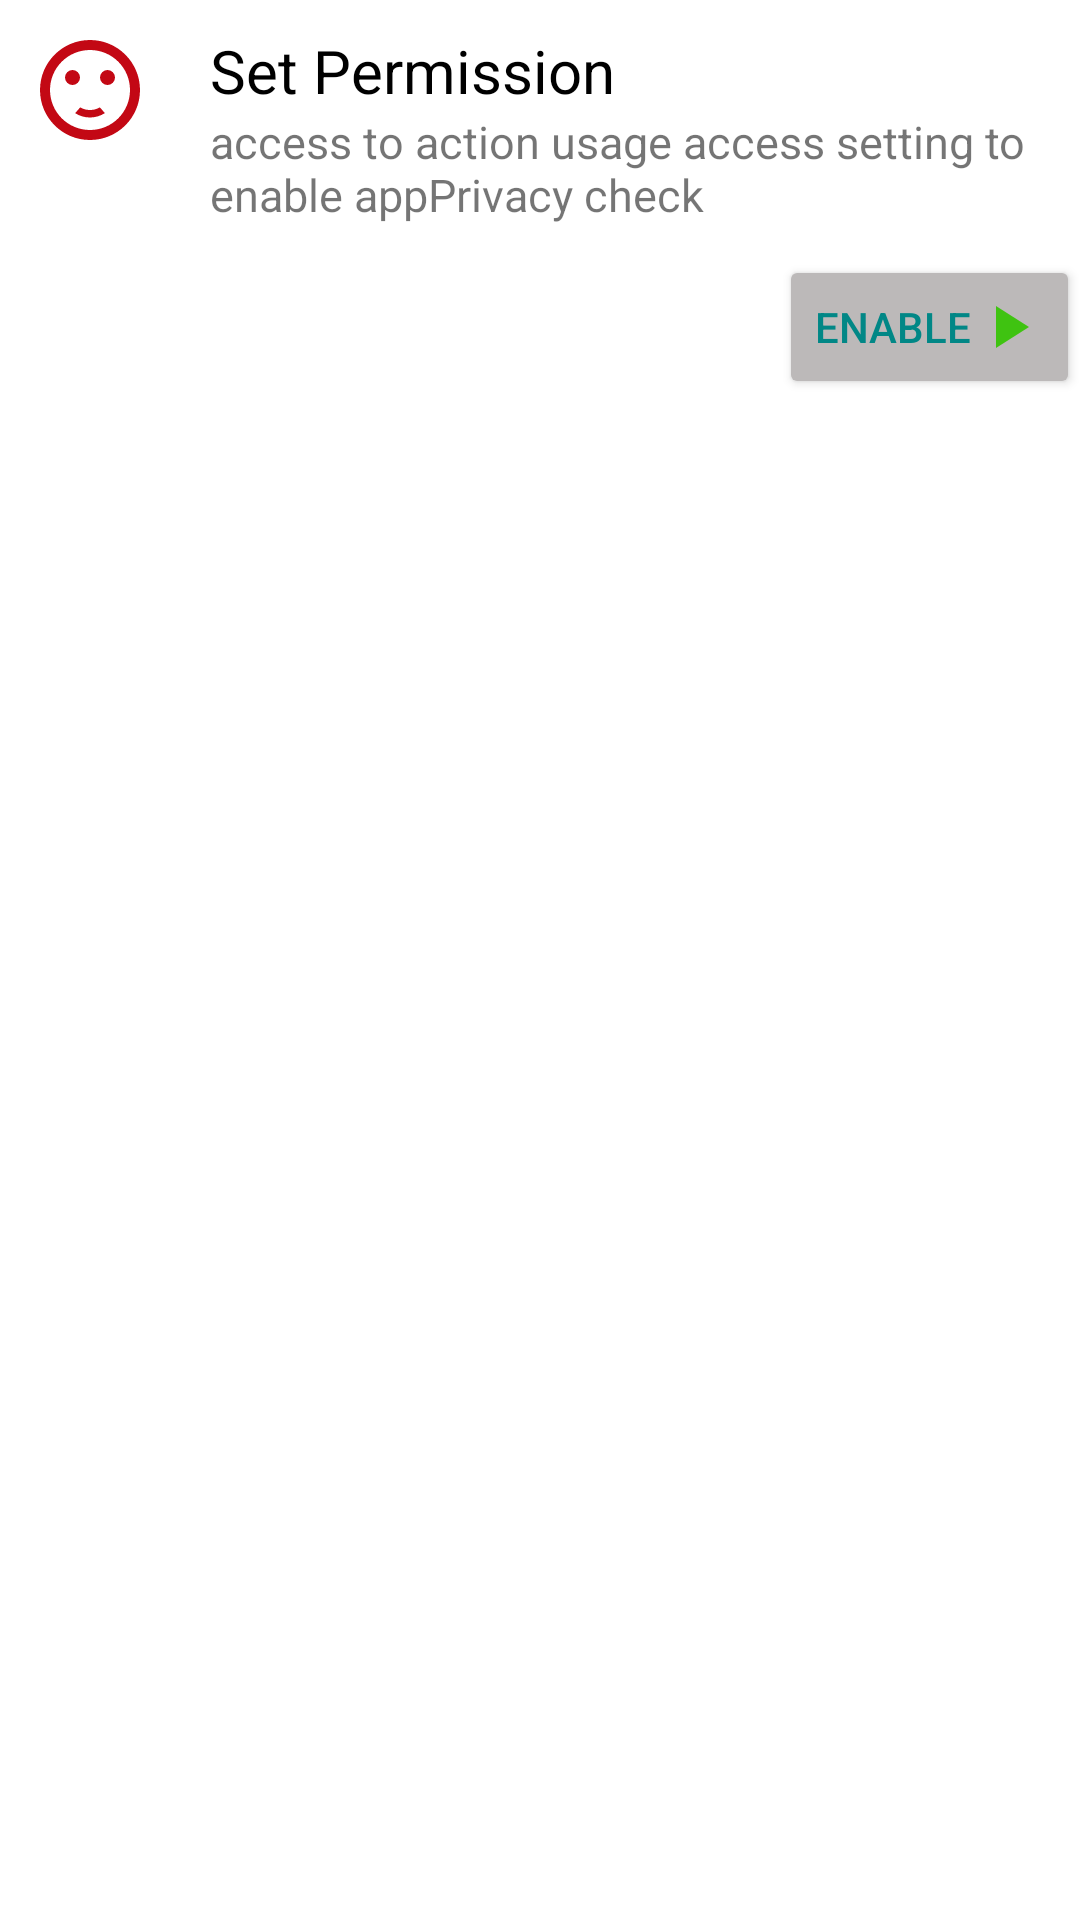

Icons on this 1080w x 1920h Android screen, each with its box as bbox(x1, y1, x2, y2):
sentiment satisfied: bbox(40, 40, 140, 140)
